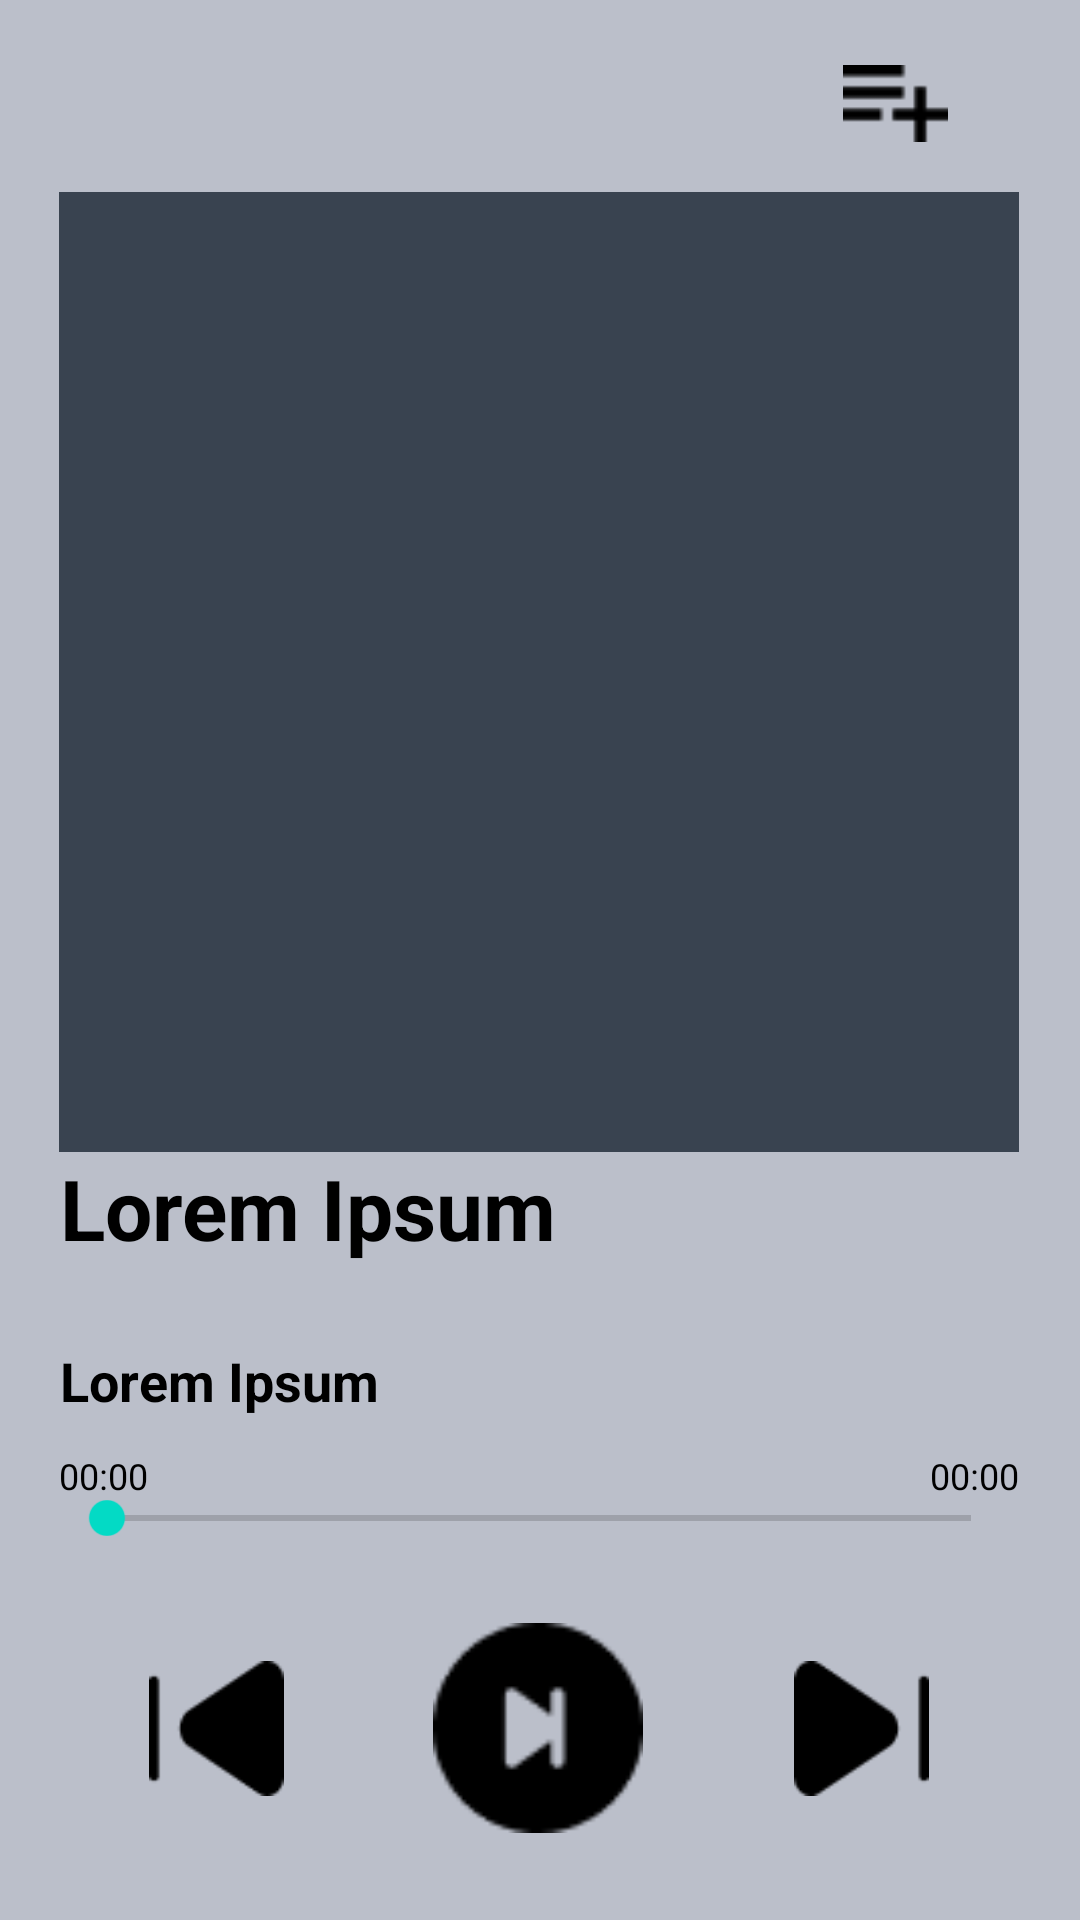

Where to tap for icons on this 1080*1920 app screen, as (x,y):
add playlist: (895,103)
continue: (538,1728)
next: (861,1728)
prev: (216,1728)
